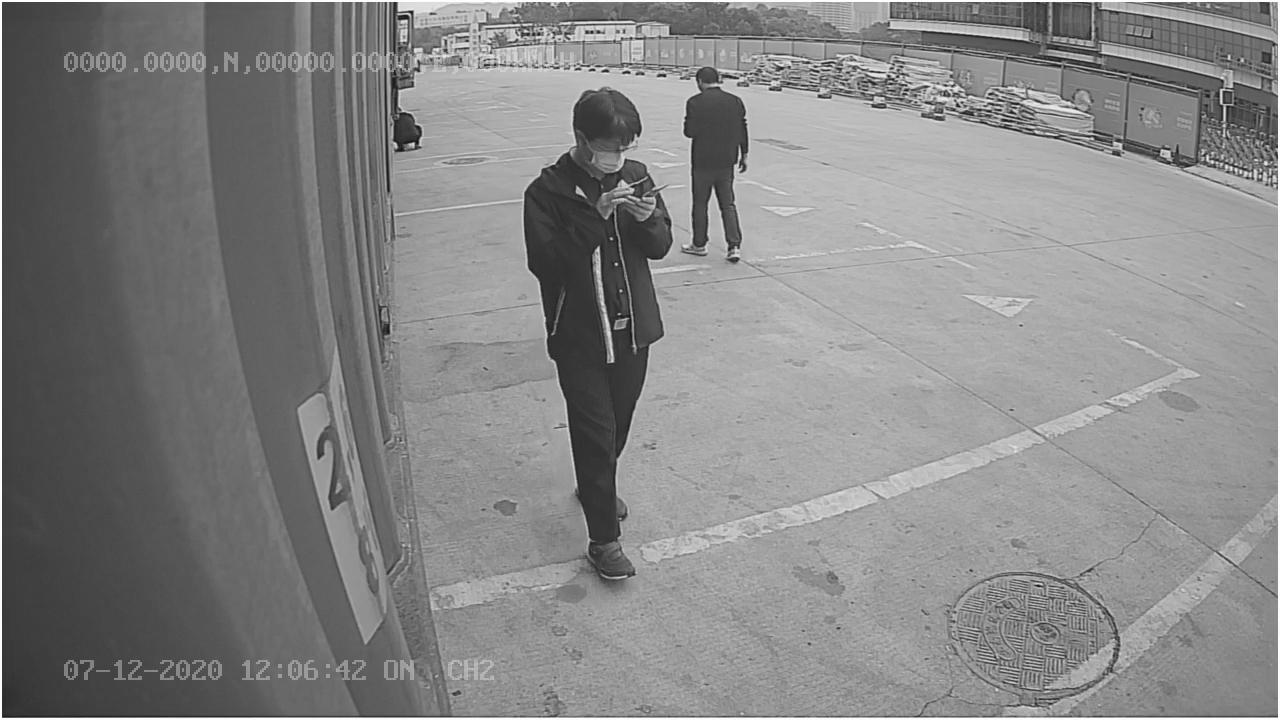person: (518, 85, 677, 586)
